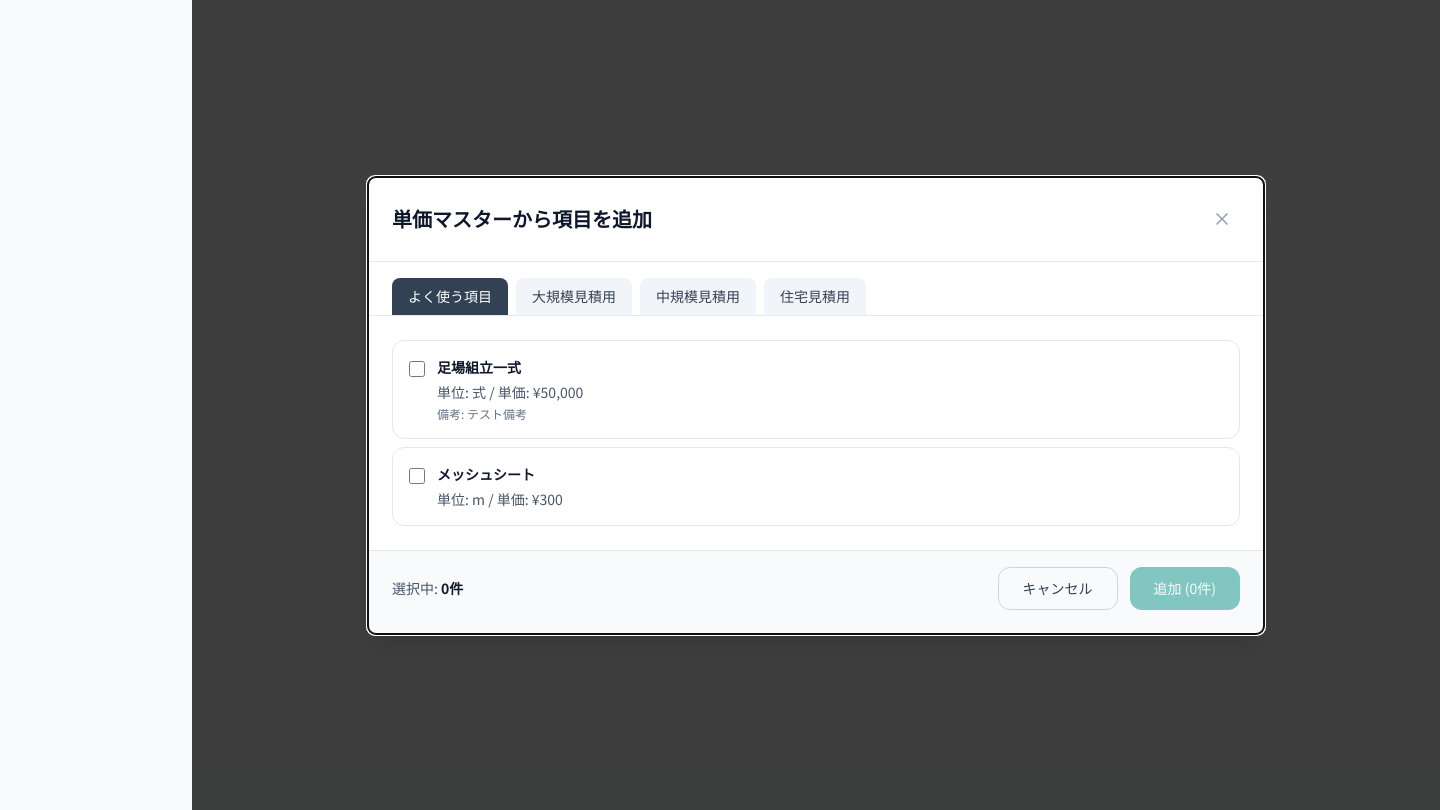
UnitPriceMasterModal › should update selected count when multiple items selected
The width and height of the screenshot is (1440, 810).
Click the checkbox labelled "足場組立一式 単位: 式 / 単価: ¥50,000 備考: テスト備考" at x=417, y=368, box [409, 360, 425, 376]
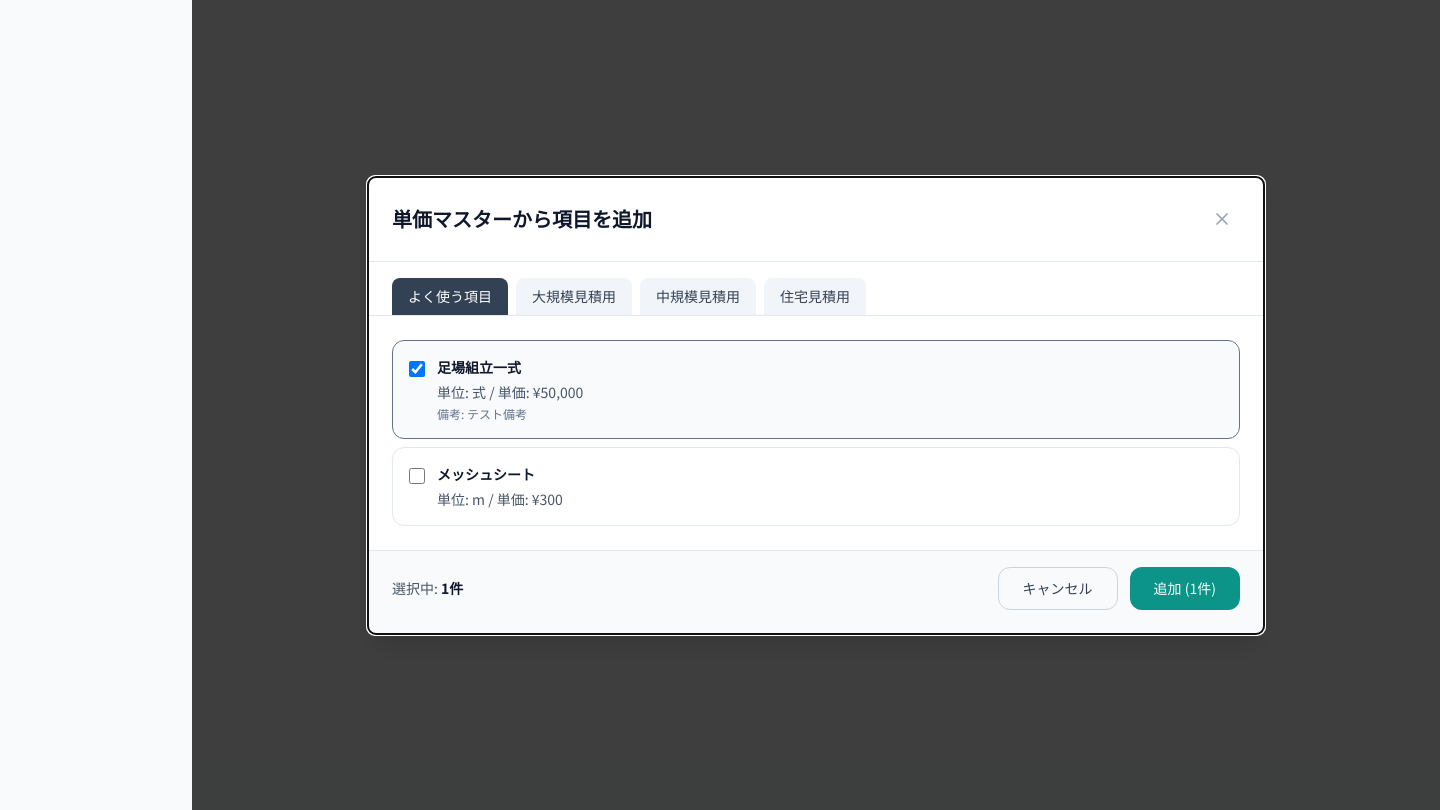
Click the checkbox labelled "メッシュシート 単位: m / 単価: ¥300" at x=417, y=476, box [409, 468, 425, 484]
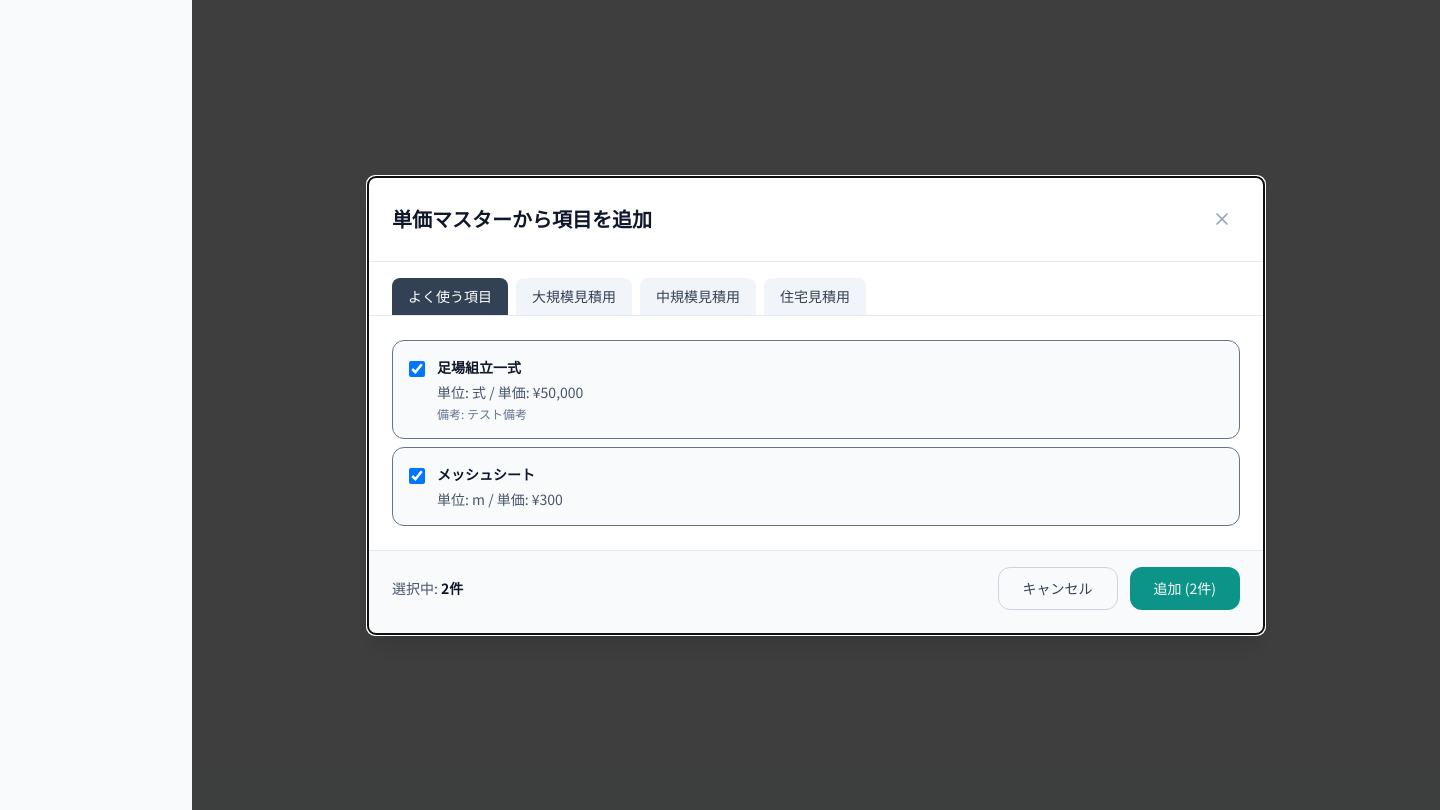
Expected: the text "2件" is shown, [441, 578, 463, 598]
